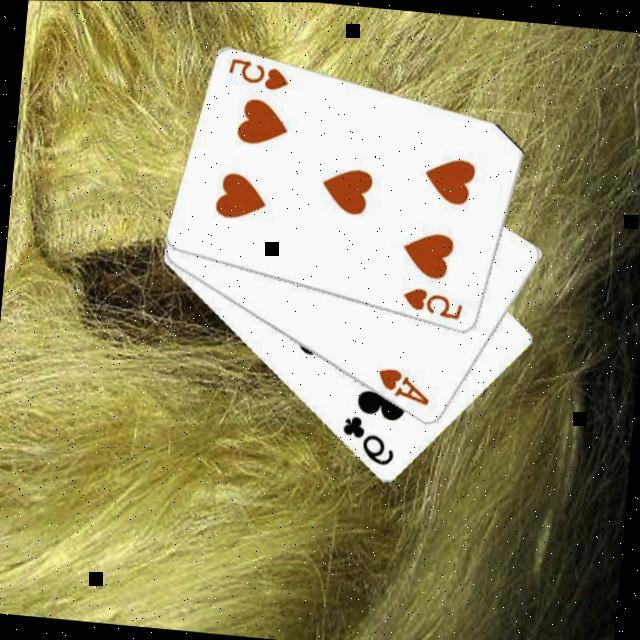5H: (220, 54, 290, 96), (396, 284, 466, 324)
6C: (333, 412, 398, 470)
AH: (370, 364, 432, 410)
